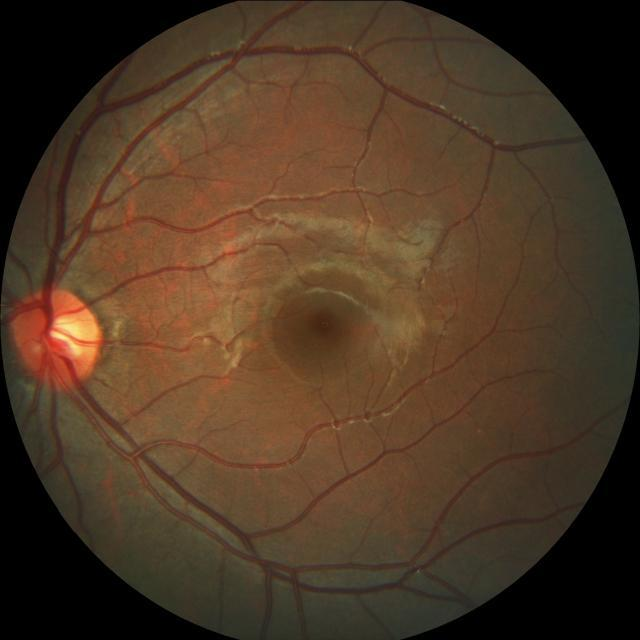OC: (49, 315, 83, 354)
OD: (12, 284, 103, 385)
